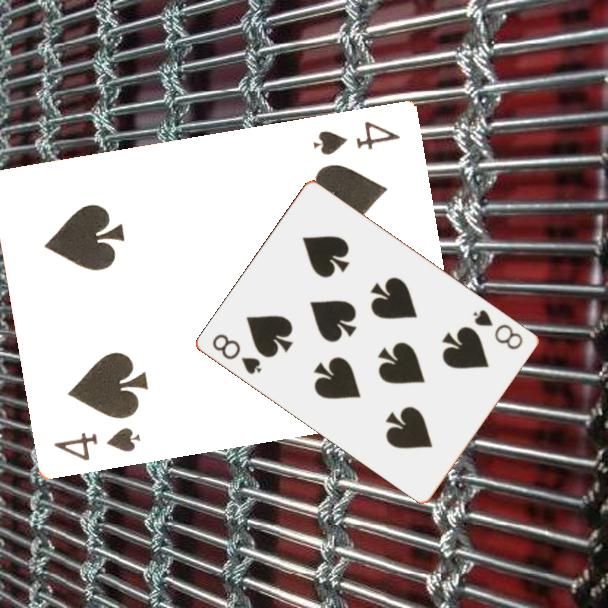s04: (309, 118, 403, 159), (50, 424, 144, 464)
s08: (469, 306, 526, 353), (209, 330, 265, 377)
